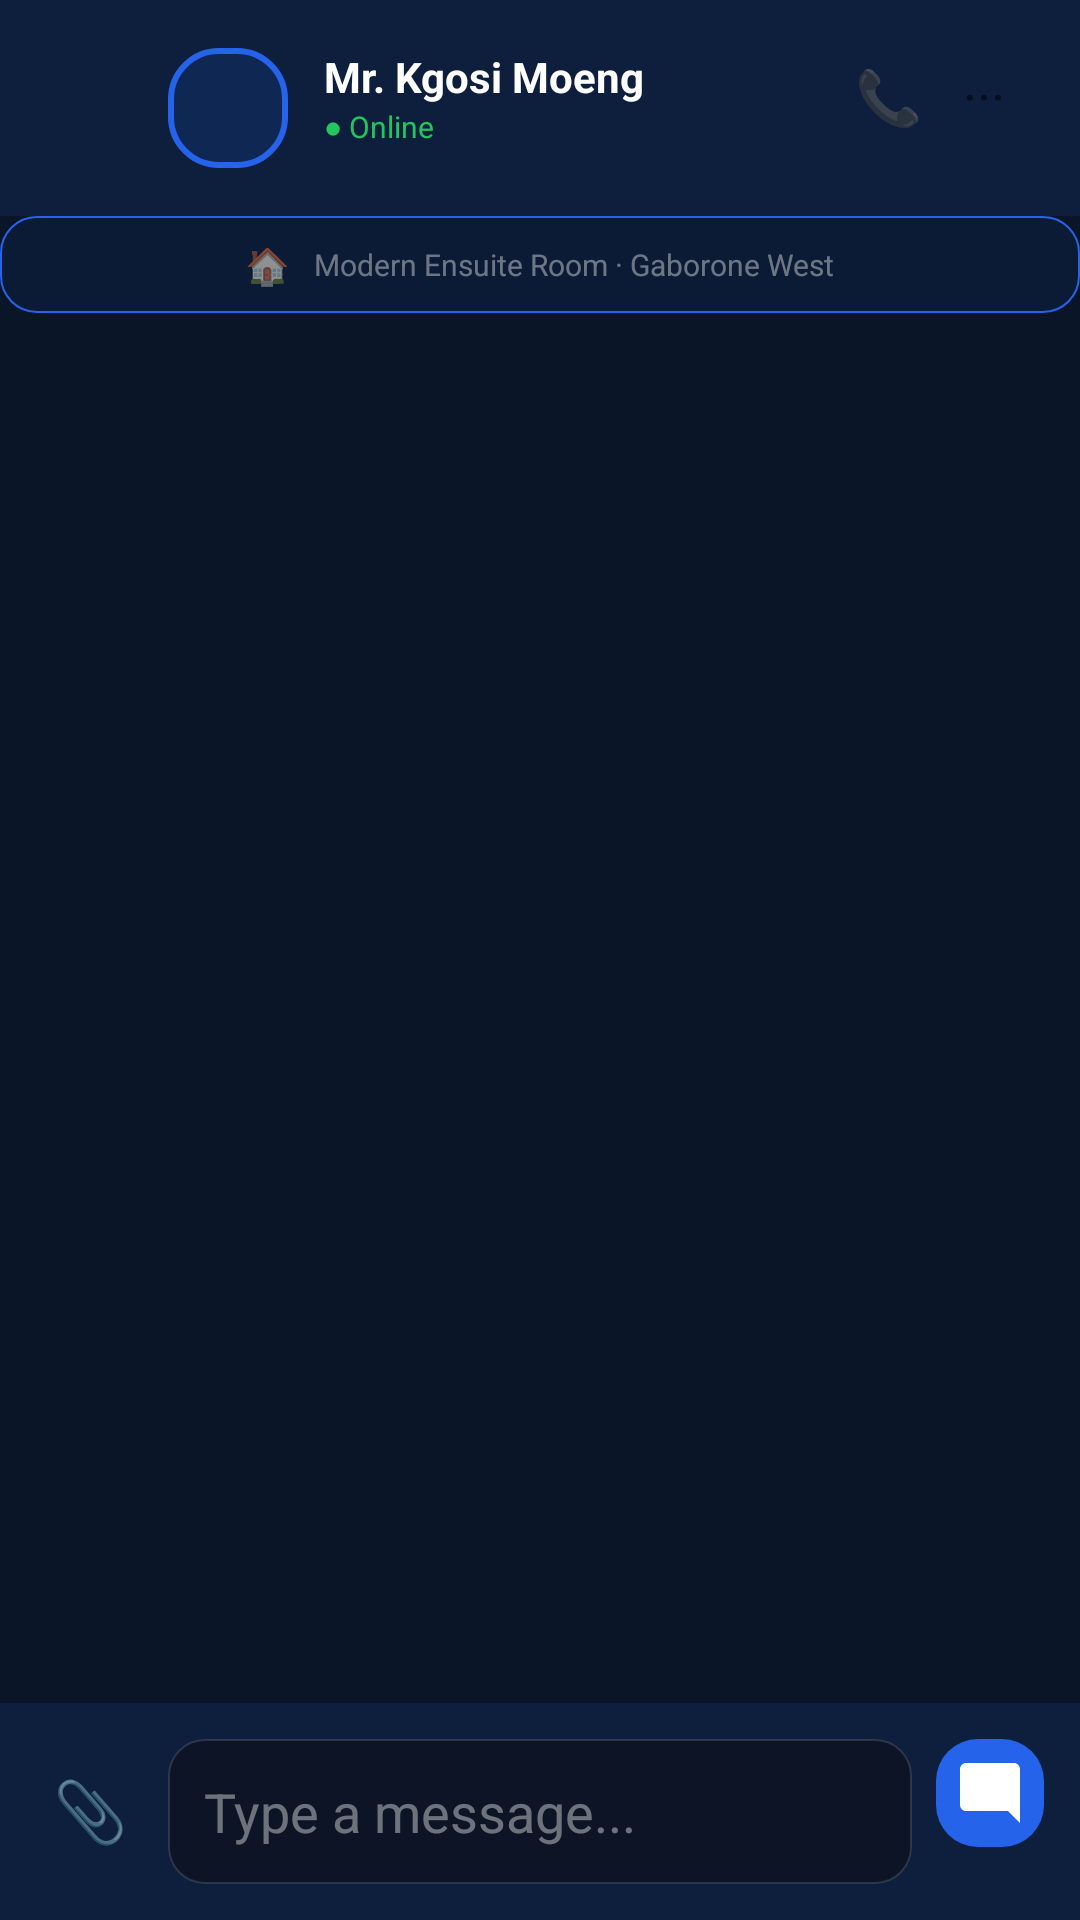

Screen size 1080px×1920px. Icon name, then its box in pixels as [x1=x1, y1=y1, x2=x2, y2=y2]:
chat: [x1=936, y1=1739, x2=1044, y2=1847]
